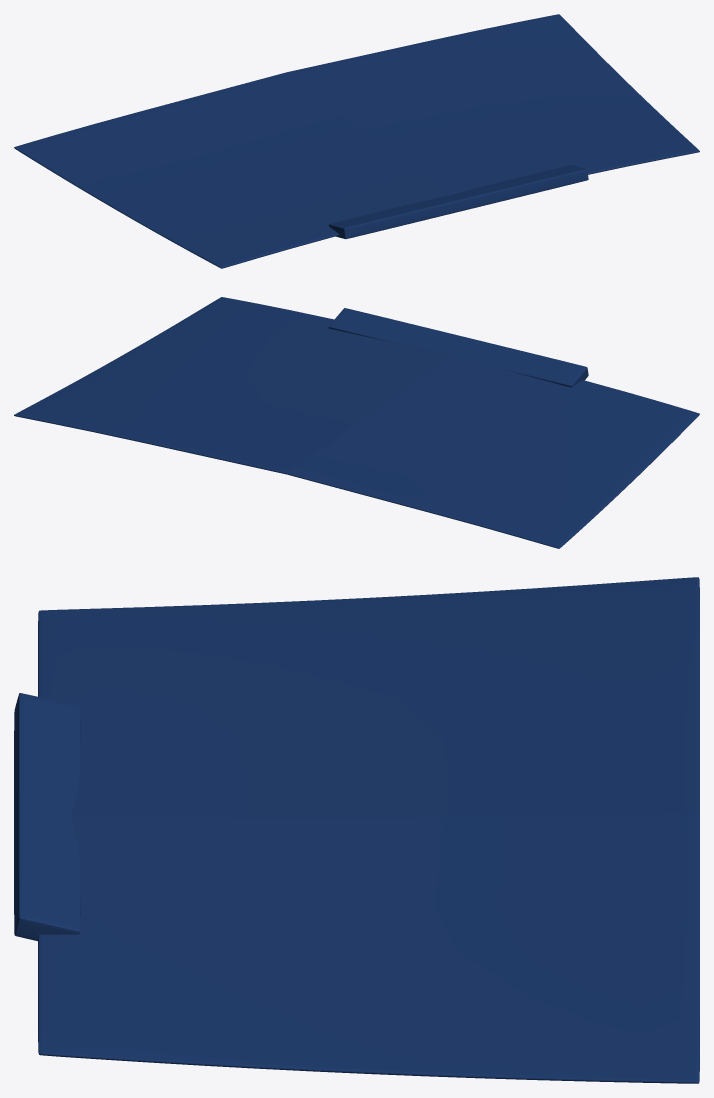
The model's file is trunk_decklid.glb.
3 views of the same model, one above another, from view 1: azimuth 30°, elevation 25°; view 2: azimuth 150°, elevation 25°; view 3: azimuth 270°, elevation 25° (orthographic). The views are drawn at different scales.
Parts seen in each view (by area): view 1: GEO_Trunk_Decklid; view 2: GEO_Trunk_Decklid; view 3: GEO_Trunk_Decklid.
Part boxes in pixels (box(x1,y1,x2,y2)): GEO_Trunk_Decklid: box(14, 14, 699, 268); GEO_Trunk_Decklid: box(14, 297, 699, 548); GEO_Trunk_Decklid: box(14, 577, 699, 1083).
Size of the model in its own units: 1.3 by 0.0393 by 0.746.
